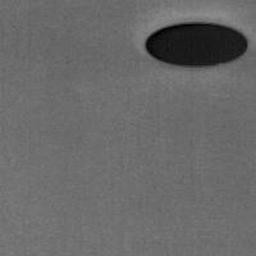Punching: (146, 23, 247, 68)
